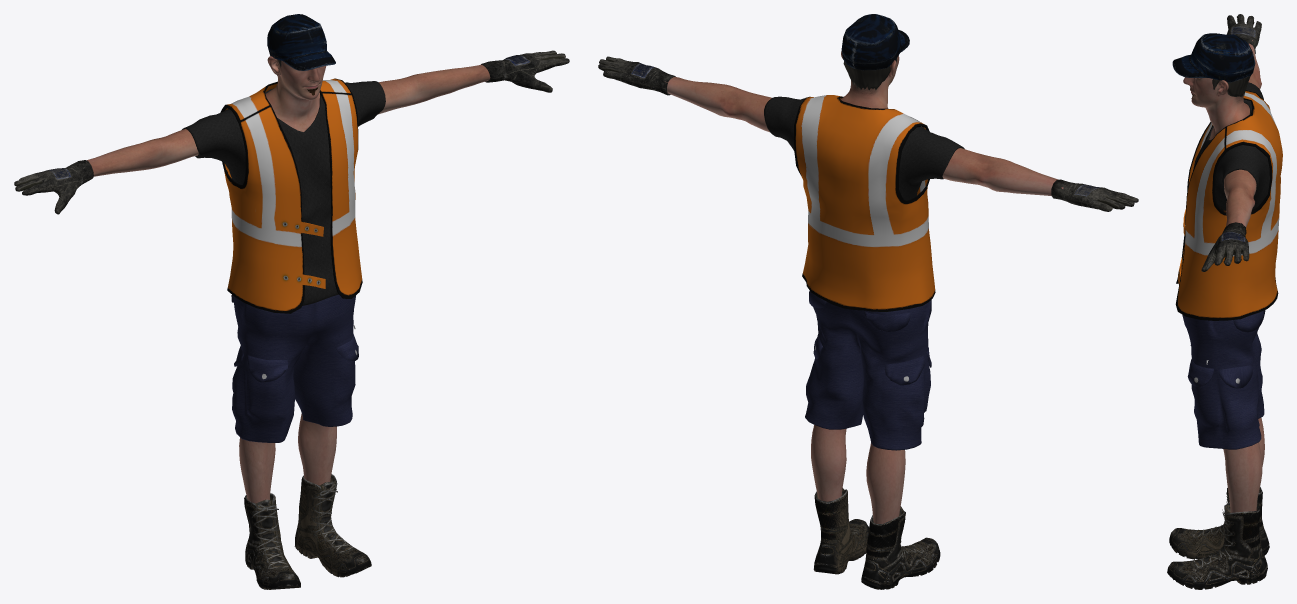
3 views of the same model, side by side, from view 1: azimuth 30°, elevation 25°; view 2: azimuth 150°, elevation 25°; view 3: azimuth 270°, elevation 25° (orthographic). The views are drawn at different scales.
Visible parts, largest first — view 1: Vest_3CDE, Bottoms, Body, Tops, Shoes, Gloves, Hat_3BDE; view 2: Vest_3CDE, Bottoms, Body, Shoes, Tops, Gloves, Hat_3BDE, Hair_3BDE; view 3: Vest_3CDE, Bottoms, Shoes, Body, Hat_3BDE, Tops, Gloves, Hair_3BDE.
Part boxes in pixels (x1=…): Vest_3CDE: x1=220, y1=78, x2=362, y2=313; Bottoms: x1=231, y1=294, x2=358, y2=442; Body: x1=87, y1=56, x2=490, y2=503; Tops: x1=182, y1=81, x2=385, y2=305; Shoes: x1=244, y1=474, x2=371, y2=589; Gloves: x1=14, y1=50, x2=569, y2=214; Hat_3BDE: x1=267, y1=14, x2=335, y2=70; Vest_3CDE: x1=794, y1=95, x2=935, y2=311; Bottoms: x1=805, y1=290, x2=931, y2=450; Body: x1=665, y1=51, x2=1063, y2=523; Shoes: x1=813, y1=488, x2=940, y2=589; Tops: x1=764, y1=96, x2=964, y2=200; Gloves: x1=598, y1=56, x2=1138, y2=211; Hat_3BDE: x1=841, y1=14, x2=909, y2=70; Hair_3BDE: x1=843, y1=58, x2=896, y2=90; Vest_3CDE: x1=1175, y1=90, x2=1282, y2=320; Bottoms: x1=1182, y1=310, x2=1265, y2=449; Shoes: x1=1167, y1=487, x2=1269, y2=589; Body: x1=1183, y1=40, x2=1264, y2=512; Hat_3BDE: x1=1172, y1=33, x2=1255, y2=82; Tops: x1=1179, y1=82, x2=1269, y2=284; Gloves: x1=1201, y1=14, x2=1261, y2=271; Hair_3BDE: x1=1212, y1=75, x2=1250, y2=97.
Size of the model in its own units: 1.92 by 1.86 by 0.3678.
6 materials, 6 textured.
